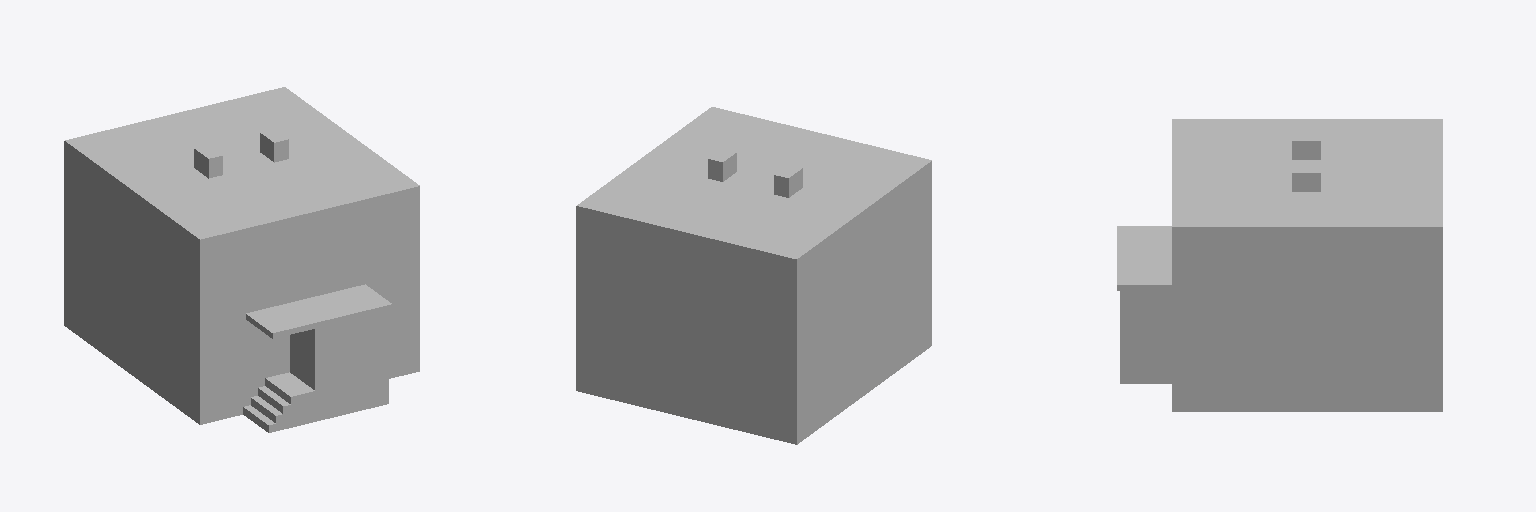
The model's file is polish_house_5.obj.
3 renders of one model, left to right at view 1: azimuth 30°, elevation 25°; view 2: azimuth 150°, elevation 25°; view 3: azimuth 270°, elevation 25°, orthographic.
Visible parts, largest first — view 1: polish_house_5; view 2: polish_house_5; view 3: polish_house_5.
Part boxes in pixels (bbox=[...]): polish_house_5: bbox=[64, 87, 419, 432]; polish_house_5: bbox=[576, 107, 931, 444]; polish_house_5: bbox=[1117, 119, 1442, 411].
Bounding box in the file's own units: 9 × 8 × 11.5.